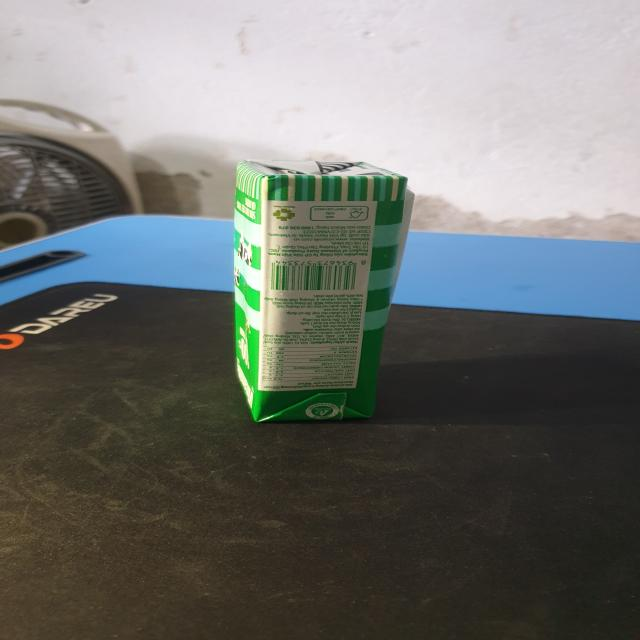Vina: (224, 158, 413, 430)
